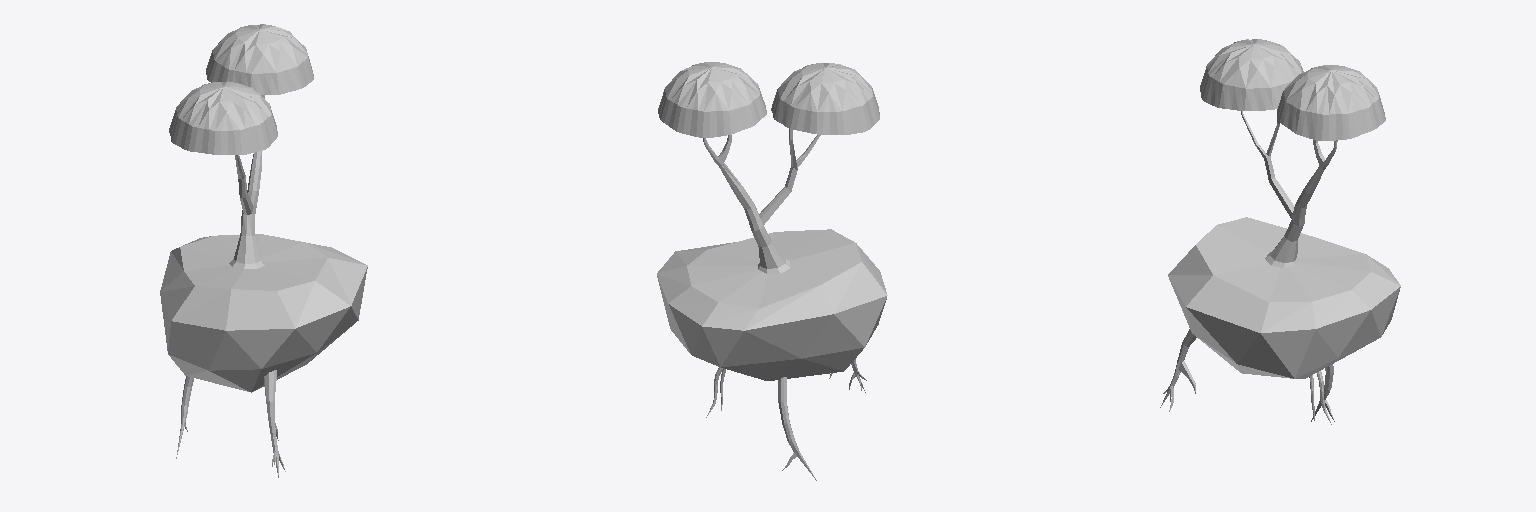
File: O_JungleWorldIsland_b.obj
The picture shows the model from 3 angles: view 1: azimuth 30°, elevation 25°; view 2: azimuth 150°, elevation 25°; view 3: azimuth 270°, elevation 25°; orthographic projection.
Visible parts, largest first — view 1: O_JungleWorldIsland_b; view 2: O_JungleWorldIsland_b; view 3: O_JungleWorldIsland_b.
Part boxes in pixels (bbox=[...]): O_JungleWorldIsland_b: bbox=[160, 24, 367, 477]; O_JungleWorldIsland_b: bbox=[657, 62, 887, 480]; O_JungleWorldIsland_b: bbox=[1160, 39, 1400, 424].
Size of the model in its own units: 40.56 by 75.93 by 41.58.